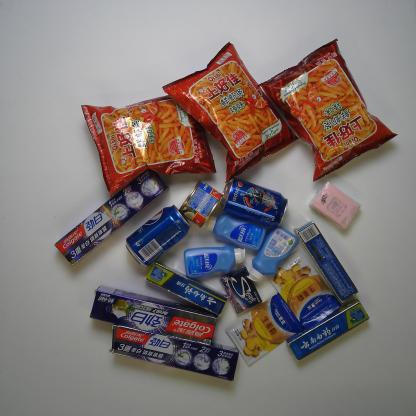Canned Food: (178, 180, 224, 228)
Drink: (124, 204, 192, 267), (219, 177, 289, 226)
Gum: (219, 266, 262, 314)
Personal Hygiene: (52, 168, 170, 266), (89, 285, 218, 346), (108, 323, 239, 382), (294, 220, 359, 304), (286, 298, 371, 362), (145, 261, 228, 316), (246, 225, 299, 282), (201, 213, 263, 251), (183, 245, 246, 278)
Puffed Food: (256, 38, 397, 182), (162, 40, 300, 183), (80, 94, 217, 197)
Seasoner: (266, 249, 342, 330), (224, 292, 304, 366)
Tissue: (309, 181, 362, 230)
